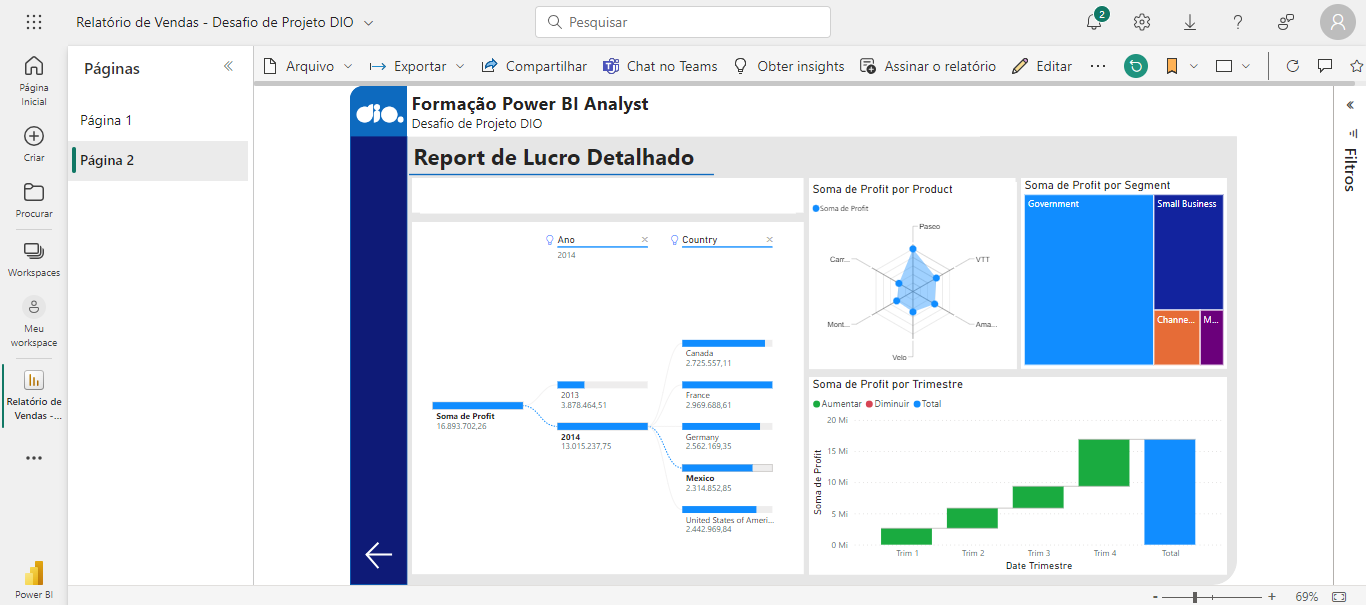

What the dashboard file says about the page in this screenshot:
{"tool":"powerbi","page":{"name":"Página 2","canvas":[1280,720],"ordinal":1},"visuals":[{"type":"shape","box":[0,0,1280,720],"z":0},{"type":"shape","box":[85,120.3,440,13.3],"z":0,"group":"g1"},{"type":"decompositionTreeVisual","fields":{"ExplainBy":["financials.Date.Variation.Hierarquia de datas.Ano","financials.Country"],"Analyze":["Sum(financials.Profit)"]},"box":[90,196.7,565,508.3],"z":0,"group":"g2"},{"type":"shape","box":[0,0,83.3,720],"z":1000},{"type":"textbox","box":[86.7,73.3,458.3,70],"z":1000,"group":"g1"},{"type":"shape","box":[0,0,83.3,73.3],"z":2000},{"type":"image","title":"DIO","box":[5,0,77.5,77.5],"z":3000},{"type":"shape","box":[82.5,0,1197.5,72.5],"z":4000},{"type":"textbox","box":[83.3,0,825,73.3],"z":5000},{"type":"group","id":"g1","title":"Title report","box":[85,73.3,460,70],"z":6000},{"type":"shape","box":[90,133.3,565,50],"z":7000},{"type":"shape","box":[661.7,420,603.3,285],"z":8000},{"type":"shape","box":[90,196.7,565,508.3],"z":9000},{"type":"shape","box":[968.3,133.3,296.7,275],"z":10000},{"type":"actionButton","box":[16.7,650,50,55],"z":11000},{"type":"waterfallChart","fields":{"Category":["financials.Date.Variation.Hierarquia de datas.Trimestre"],"Y":["Sum(financials.Profit)"]},"box":[661.7,420,603.3,285],"z":12000},{"type":"treemap","fields":{"Values":["Sum(financials.Profit)"],"Group":["financials.Segment"]},"box":[968.3,133.3,296.7,275],"z":13000},{"type":"shape","box":[661.7,133.3,298.3,275],"z":14000},{"type":"group","id":"g2","title":"Grupo 1","box":[90,196.7,565,508.3],"z":15000},{"type":"RadarChart1446119667547","fields":{"Category":["financials.Product"],"Y":["Sum(financials.Profit)"]},"box":[661.7,138.3,300,270],"z":16000},{"type":"ChicletSlicer1448559807354","fields":{"Category":["financials.Date.Variation.Hierarquia de datas.Ano"]},"box":[101.7,136.7,541.7,46.7],"z":17000}]}

Visuals, with their boxes on the page's 1280x720 design canvas (x1, y1, x2, y2). These are canvas units, not pixel positions in the 1366x605 screenshot, which may show the page scaled, cropped or inside an application window:
shape: 0,0,1280,720
shape: 85,120,525,134
decompositionTreeVisual - financials.Date.Variation.Hierarquia de datas.Ano x financials.Country: 90,197,655,705
shape: 0,0,83,720
textbox: 87,73,545,143
shape: 0,0,83,73
"DIO" image: 5,0,82,78
shape: 82,0,1280,72
textbox: 83,0,908,73
"Title report" group: 85,73,545,143
shape: 90,133,655,183
shape: 662,420,1265,705
shape: 90,197,655,705
shape: 968,133,1265,408
actionButton: 17,650,67,705
waterfallChart - financials.Date.Variation.Hierarquia de datas.Trimestre x Sum(financials.Profit): 662,420,1265,705
treemap - Sum(financials.Profit) x financials.Segment: 968,133,1265,408
shape: 662,133,960,408
"Grupo 1" group: 90,197,655,705
RadarChart1446119667547 - financials.Product x Sum(financials.Profit): 662,138,962,408
ChicletSlicer1448559807354 - financials.Date.Variation.Hierarquia de datas.Ano: 102,137,643,183
